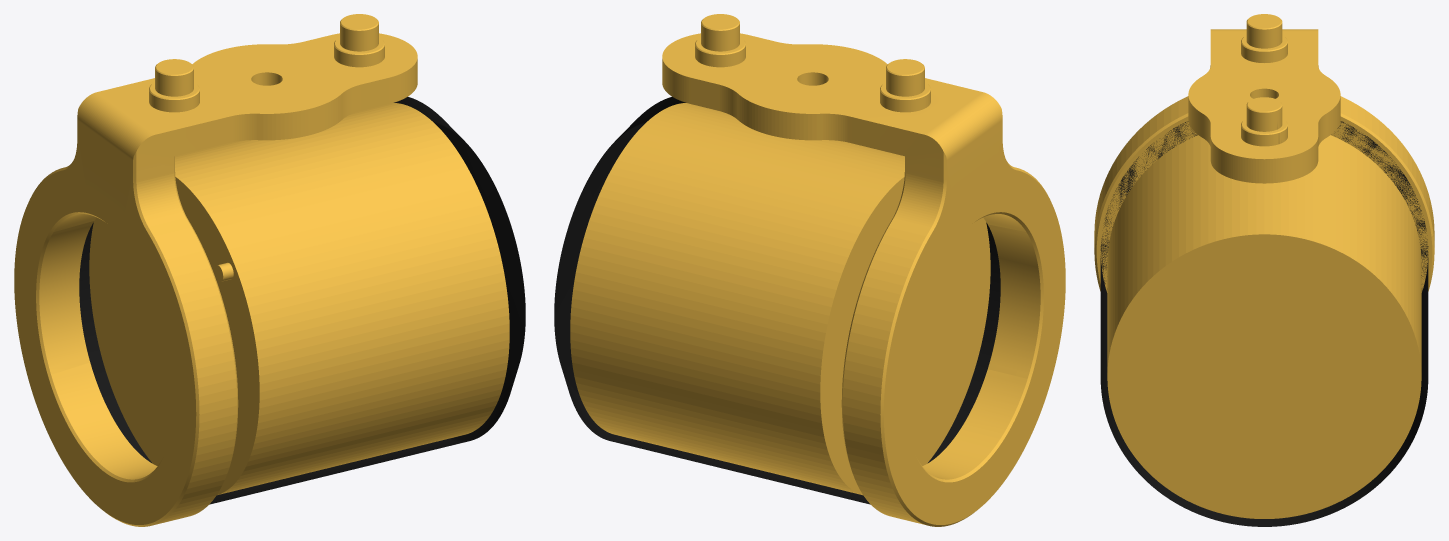
The model's file is armr6.dae.
3 views of the same model, side by side, from view 1: azimuth 30°, elevation 25°; view 2: azimuth 150°, elevation 25°; view 3: azimuth 270°, elevation 25° (orthographic). The views are drawn at different scales.
Visible parts, largest first — view 1: armr6; view 2: armr6; view 3: armr6.
Part boxes in pixels (box(x1,y1,x2,y2)): armr6: box(14, 14, 525, 526); armr6: box(554, 14, 1065, 526); armr6: box(1094, 14, 1434, 526).
Size of the model in its own units: 0.0843 by 0.076 by 0.0979.
Materials: 2 (1 with a texture image).
